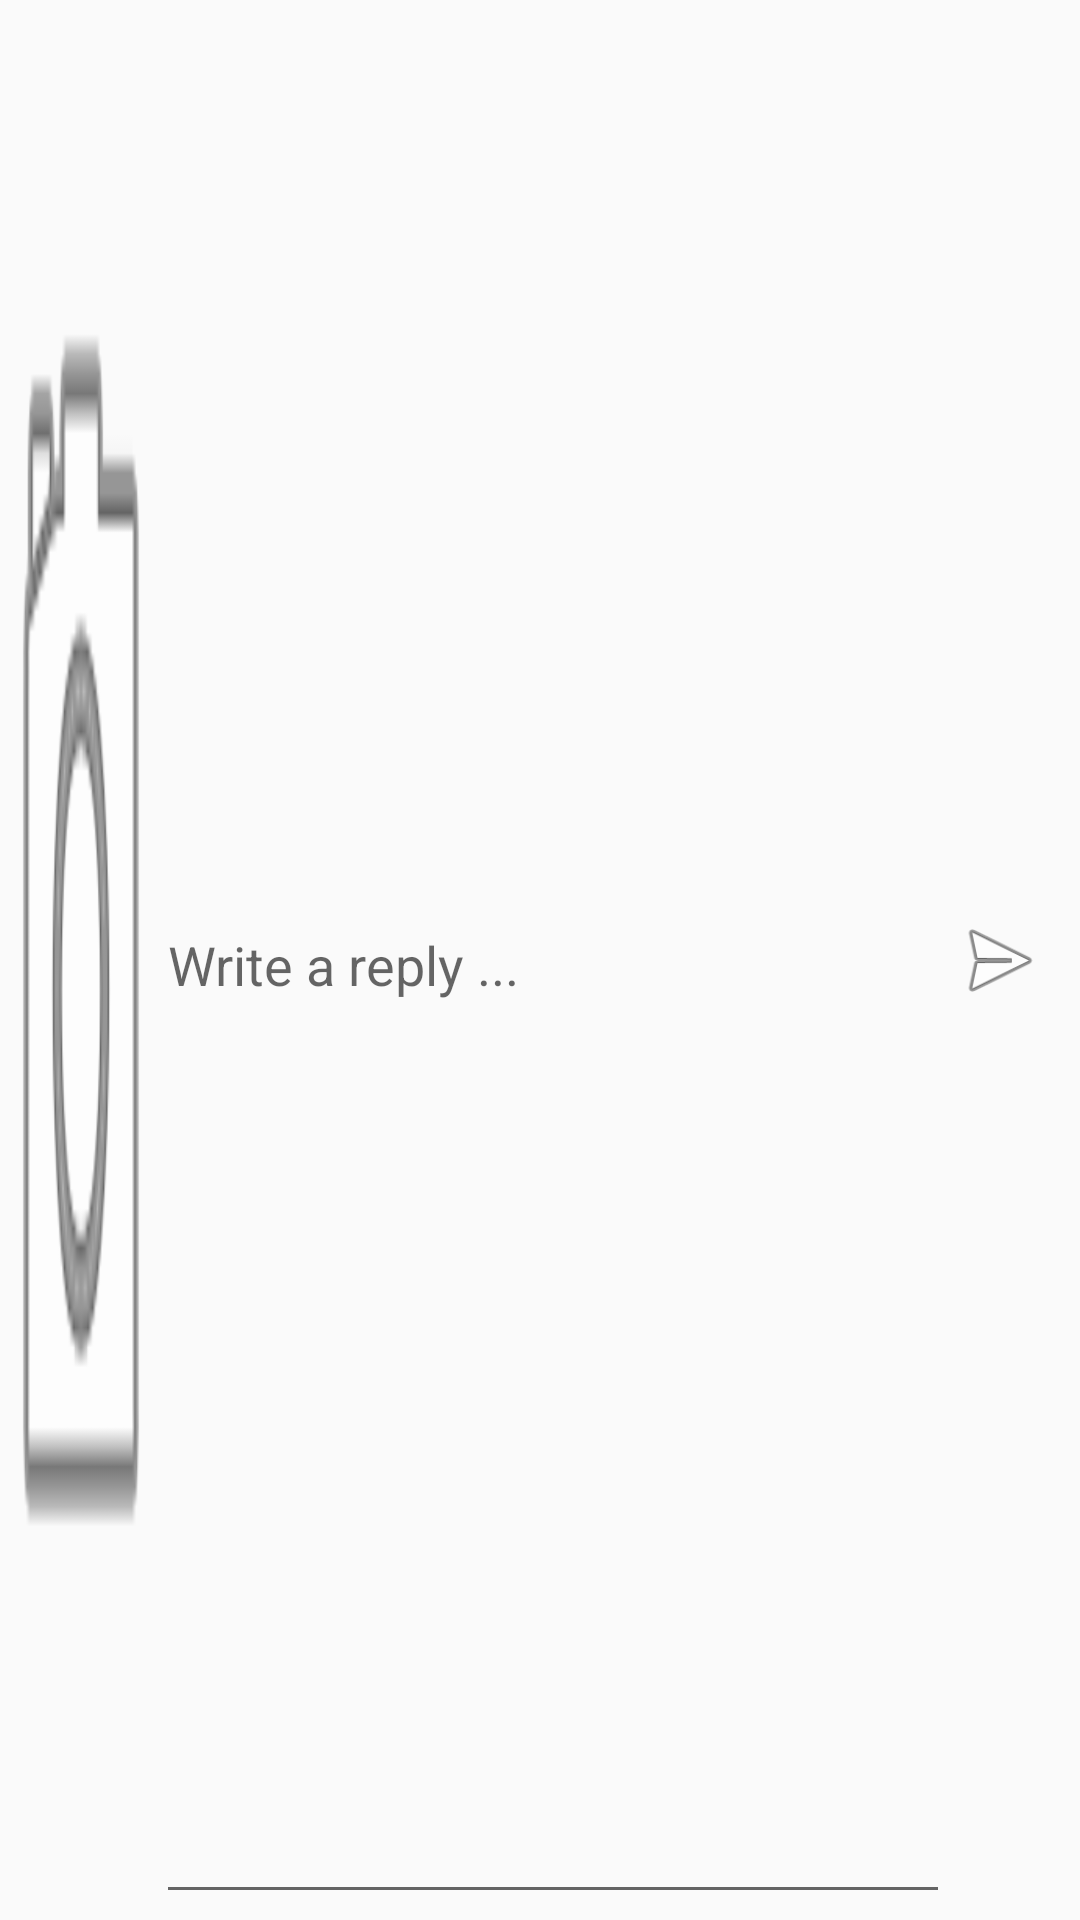

Point at icon controls on the screen. Image size 1080px×1920px, points as point (x, y).
send: point (1000, 960)
